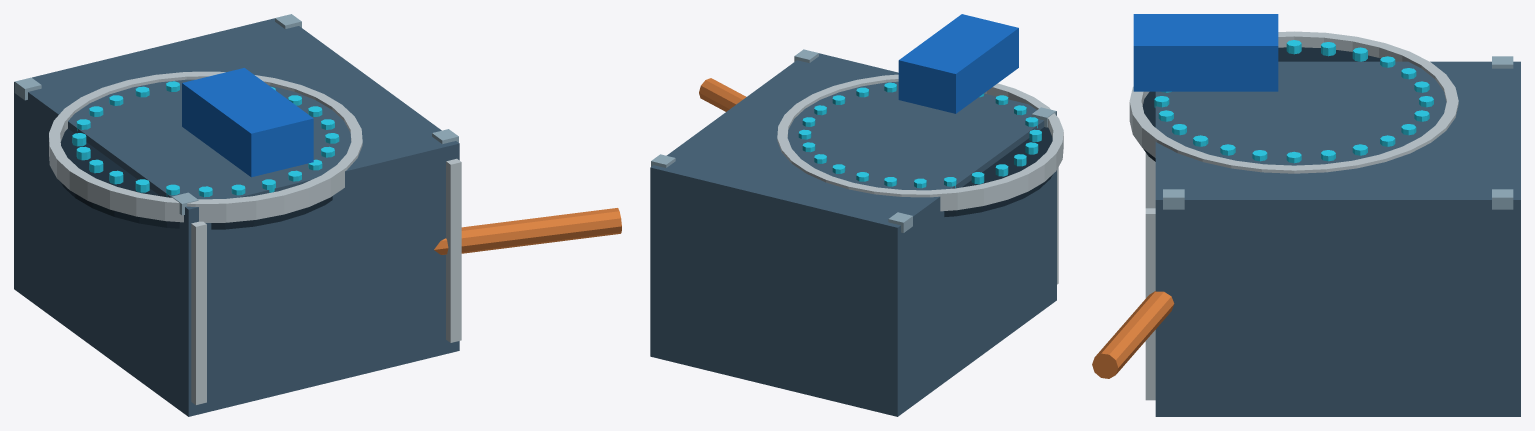
File: 30_L73_PlatenSpeedEncoder.fbx
The picture shows the model from 3 angles, left to right: view 1: azimuth 30°, elevation 25°; view 2: azimuth 150°, elevation 25°; view 3: azimuth 270°, elevation 25°; orthographic projection. The views are drawn at different scales.
Parts seen in each view (by area): view 1: PlatenSpeedEncoder, PlatenSpeedEncoder_Part_0008, PlatenSpeedEncoder_Part_0007; view 2: PlatenSpeedEncoder, PlatenSpeedEncoder_Part_0008, PlatenSpeedEncoder_Part_0007; view 3: PlatenSpeedEncoder, PlatenSpeedEncoder_Part_0008, PlatenSpeedEncoder_Part_0007.
Part boxes in pixels (left/top/right/bottom): PlatenSpeedEncoder: left=14, top=14, right=621, bottom=416; PlatenSpeedEncoder_Part_0008: left=49, top=71, right=362, bottom=222; PlatenSpeedEncoder_Part_0007: left=60, top=129, right=332, bottom=229; PlatenSpeedEncoder: left=650, top=14, right=1058, bottom=416; PlatenSpeedEncoder_Part_0008: left=777, top=74, right=1063, bottom=211; PlatenSpeedEncoder_Part_0007: left=944, top=127, right=1052, bottom=216; PlatenSpeedEncoder: left=1092, top=14, right=1520, bottom=416; PlatenSpeedEncoder_Part_0008: left=1129, top=31, right=1458, bottom=173; PlatenSpeedEncoder_Part_0007: left=1142, top=47, right=1380, bottom=161.
Bounding box in the file's own units: 88.82 × 51 × 68.09.
